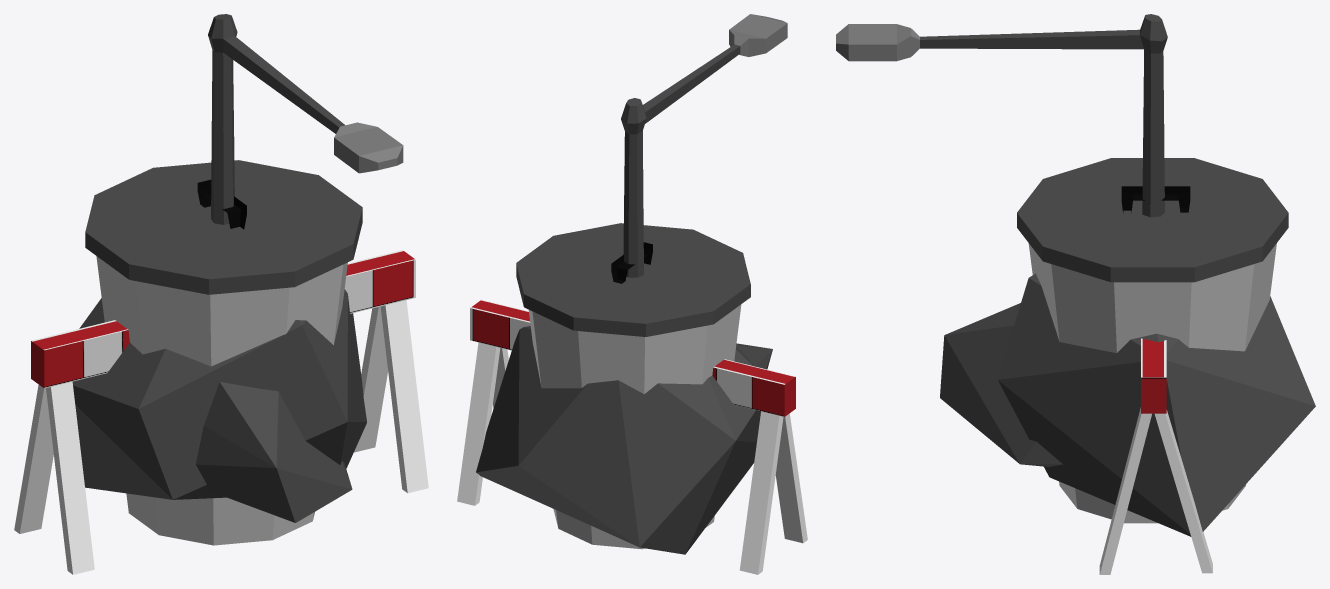
File: CityObjects.fbx
The picture shows the model from 3 angles, left to right: view 1: azimuth 30°, elevation 25°; view 2: azimuth 150°, elevation 25°; view 3: azimuth 270°, elevation 25°; orthographic projection. The views are drawn at different scales.
Parts seen in each view (by area): view 1: Dustbin, Rock2, Baricating, Rock1, StreatLight; view 2: Rock2, Dustbin, Baricating, StreatLight, Rock1; view 3: Dustbin, Rock2, StreatLight, Rock1, Baricating.
Part boxes in pixels (left/top/right/bottom): Dustbin: left=85, top=160, right=362, bottom=545; Rock2: left=72, top=289, right=366, bottom=499; Baricating: left=14, top=250, right=428, bottom=574; Rock1: left=195, top=382, right=352, bottom=522; StreatLight: left=208, top=14, right=403, bottom=224; Rock2: left=476, top=326, right=760, bottom=554; Dustbin: left=516, top=223, right=750, bottom=549; Baricating: left=457, top=300, right=807, bottom=574; StreatLight: left=621, top=14, right=787, bottom=277; Rock1: left=736, top=343, right=772, bottom=369; Dustbin: left=1017, top=158, right=1288, bottom=523; Rock2: left=997, top=273, right=1315, bottom=536; StreatLight: left=836, top=14, right=1167, bottom=217; Rock1: left=940, top=303, right=1062, bottom=466; Baricating: left=1099, top=338, right=1212, bottom=574.
Bounding box in the file's own units: 3.25 × 4.14 × 3.79.
